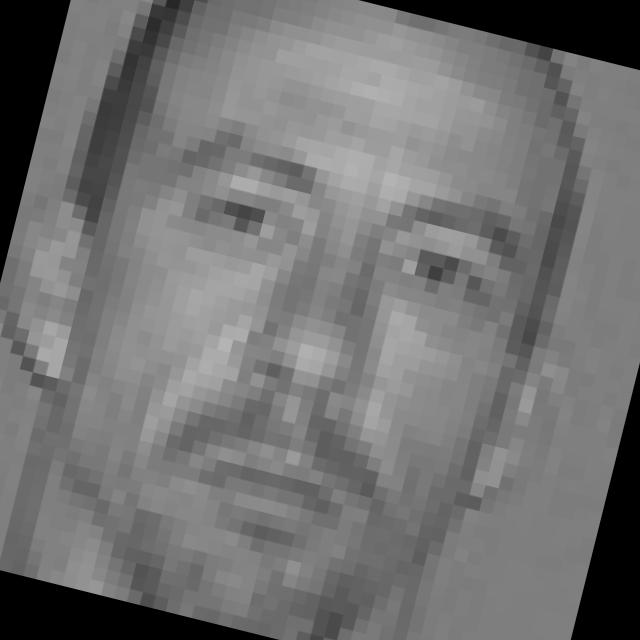neutral: (58, 110, 540, 602)
